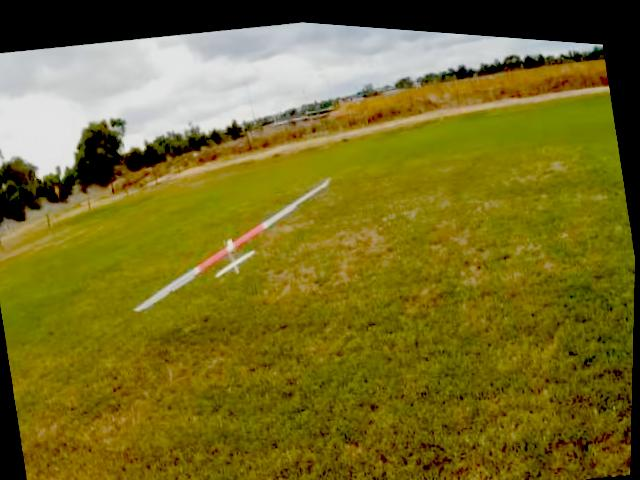uav: (109, 146, 360, 336)
